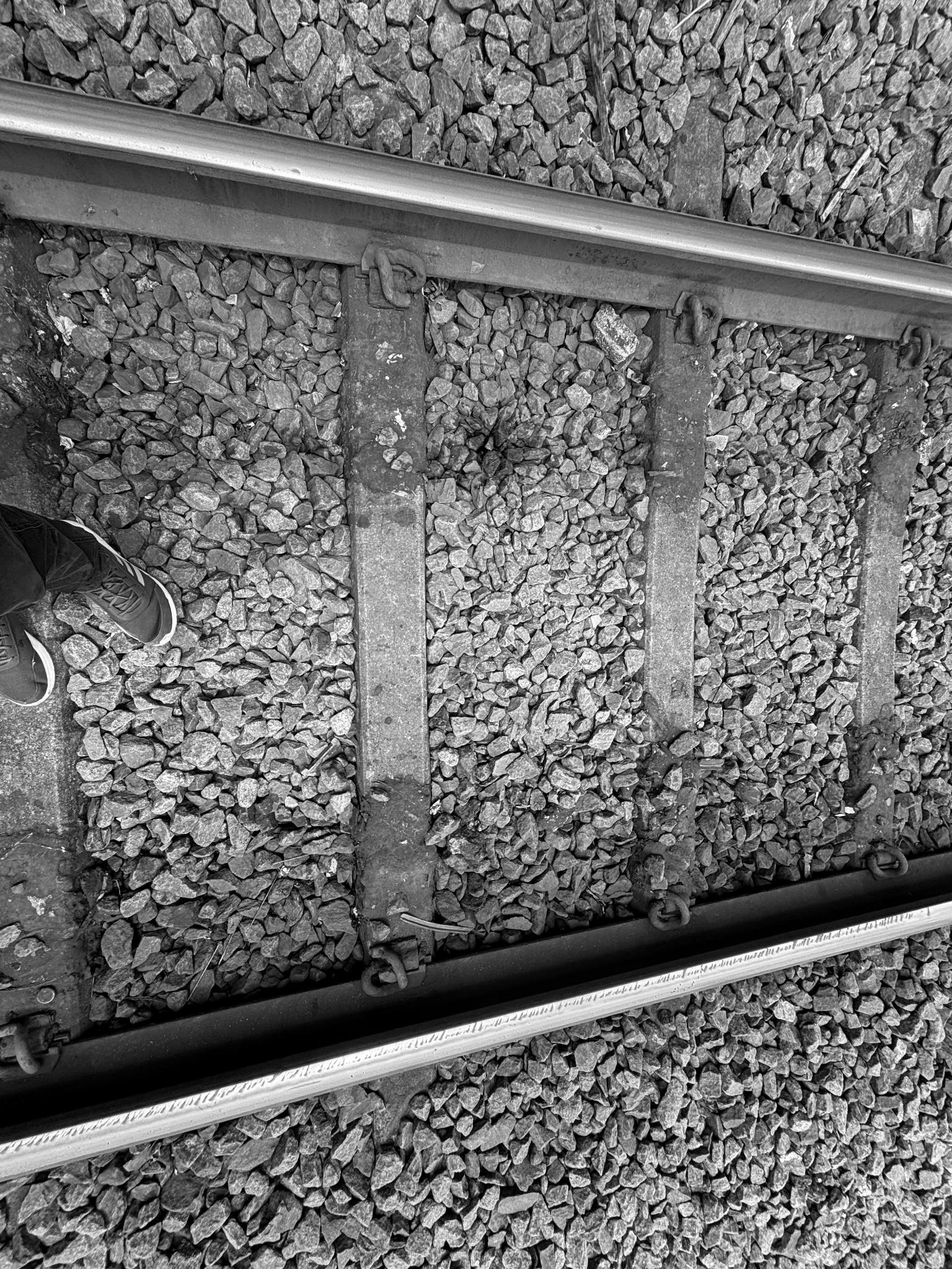cracks in midportion: (371, 498, 406, 707)
